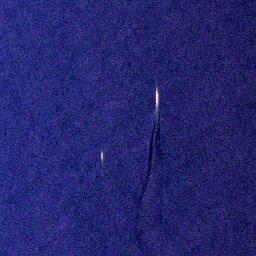Ship: (154, 87, 160, 109), (97, 149, 105, 162)
